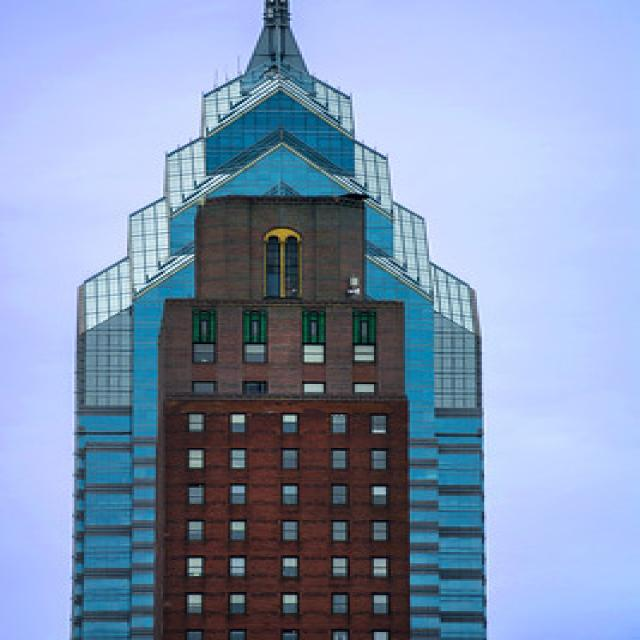building: (65, 54, 501, 640)
